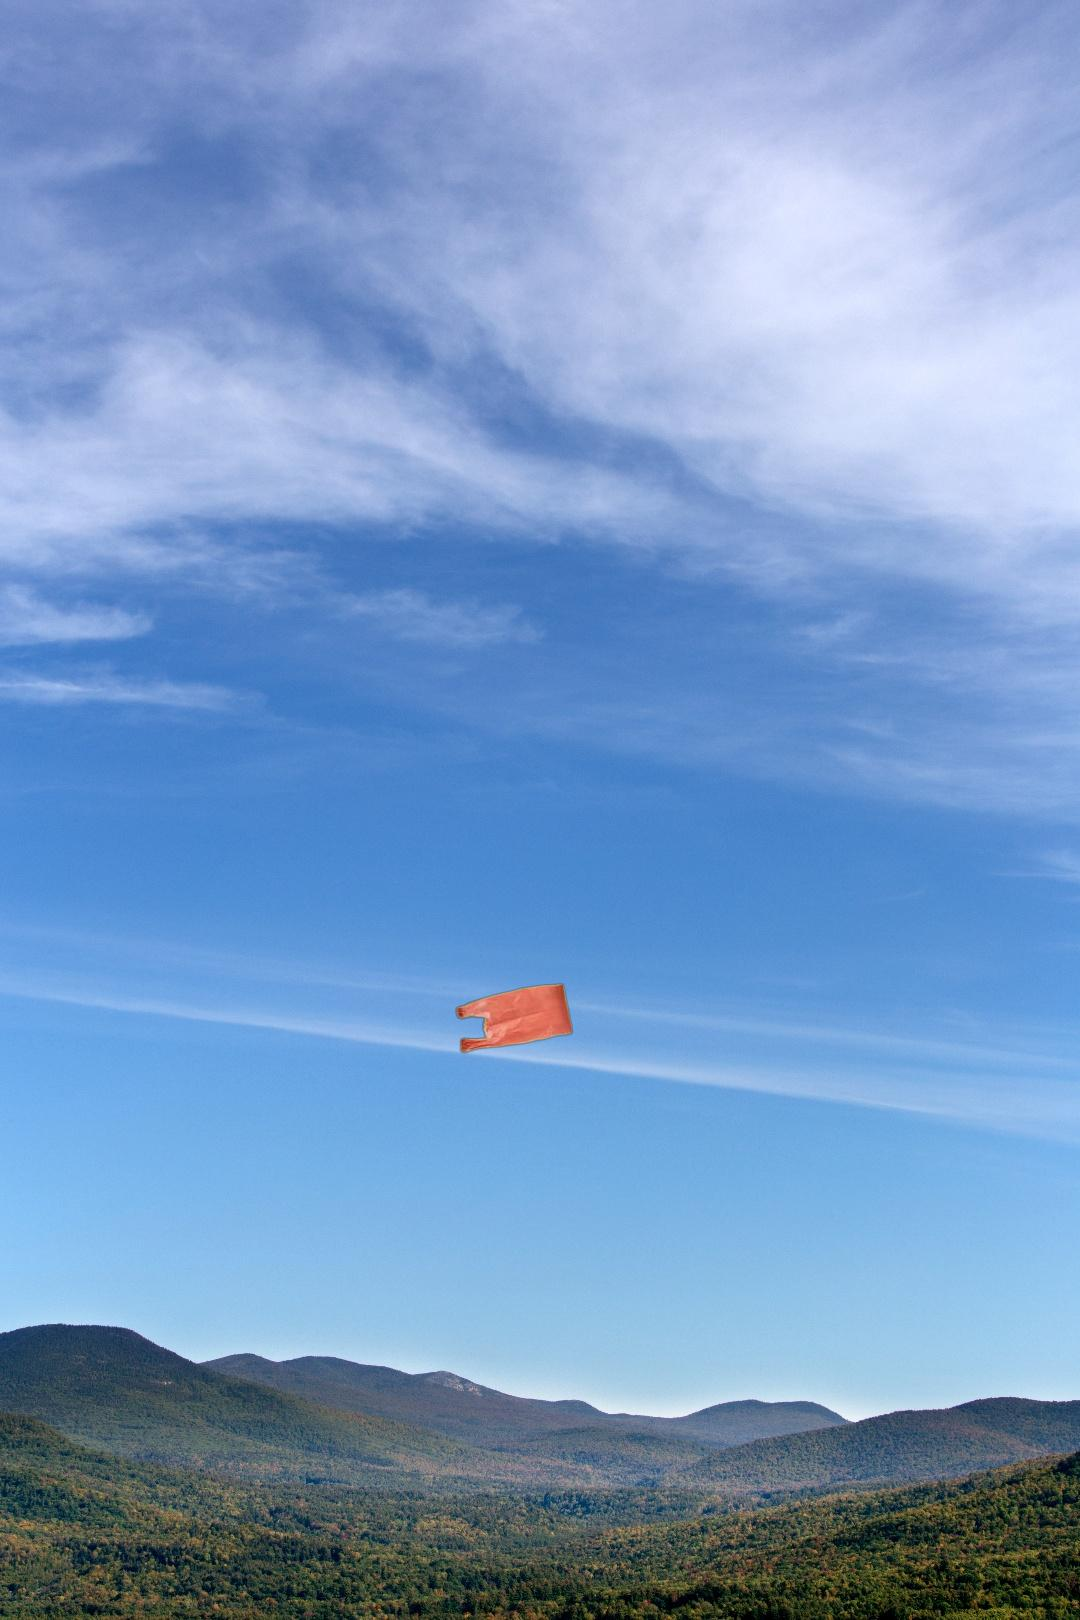plastic-bag: (453, 981, 574, 1056)
